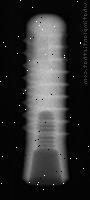Keystone Dental: (23, 13, 69, 182)
